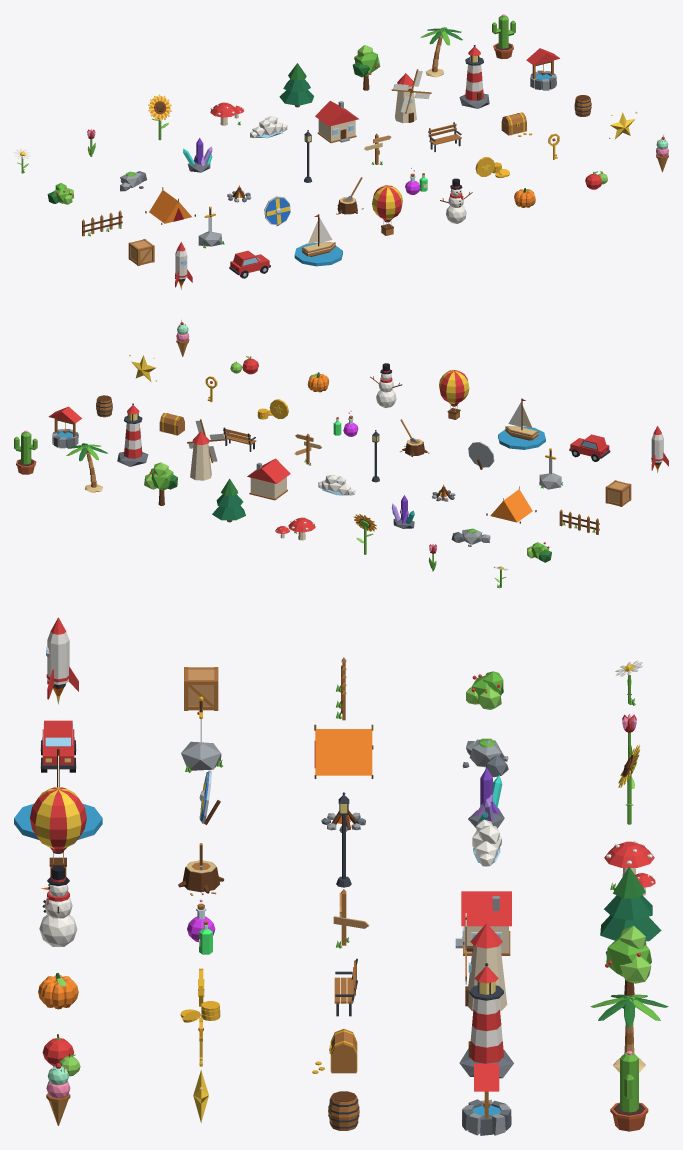
Rendered from LowPolyPack.fbx.
The picture shows the model from 3 angles, top to bottom: view 1: azimuth 30°, elevation 25°; view 2: azimuth 150°, elevation 25°; view 3: azimuth 270°, elevation 25°; orthographic projection. The views are drawn at different scales.
Visible parts, largest first — view 1: House, Sailboat, Windmill, Lighthouse, Hot Air Balloon, Well, Pine Tree, Tent, Car, Cactus, Round Tree, Snowman (+14 smaller); view 2: Sailboat, House, Windmill, Lighthouse, Hot Air Balloon, Well, Pine Tree, Tent, Round Tree, Car, Cactus, Snowman (+12 smaller); view 3: Lighthouse, Hot Air Balloon, Tent, House, Pine Tree, Well, Snowman, Round Tree, Windmill, Cactus, Car, Rocket (+18 smaller).
Boxes of the visible parts, left/top/right/bottom form: House: left=315, top=100, right=358, bottom=143; Sailboat: left=294, top=214, right=342, bottom=266; Windmill: left=391, top=69, right=431, bottom=123; Lighthouse: left=459, top=45, right=489, bottom=108; Hot Air Balloon: left=372, top=185, right=402, bottom=235; Well: left=526, top=48, right=559, bottom=90; Pine Tree: left=279, top=63, right=313, bottom=107; Tent: left=145, top=187, right=195, bottom=224; Car: left=229, top=250, right=270, bottom=278; Cactus: left=492, top=14, right=515, bottom=58; Round Tree: left=352, top=45, right=380, bottom=90; Snowman: left=440, top=178, right=472, bottom=223; Sailboat: left=498, top=398, right=545, bottom=449; House: left=247, top=458, right=290, bottom=500; Windmill: left=187, top=419, right=226, bottom=480; Lighthouse: left=117, top=403, right=148, bottom=466; Hot Air Balloon: left=439, top=369, right=469, bottom=419; Well: left=48, top=406, right=81, bottom=448; Pine Tree: left=212, top=478, right=245, bottom=522; Tent: left=486, top=486, right=536, bottom=523; Round Tree: left=144, top=462, right=177, bottom=505; Car: left=569, top=434, right=610, bottom=461; Cactus: left=14, top=430, right=37, bottom=474; Snowman: left=370, top=363, right=402, bottom=408; Lighthouse: left=459, top=963, right=513, bottom=1078; Hot Air Balloon: left=30, top=787, right=86, bottom=876; Tent: left=314, top=724, right=373, bottom=778; House: left=455, top=891, right=511, bottom=955; Pine Tree: left=600, top=866, right=661, bottom=941; Well: left=462, top=1063, right=511, bottom=1135; Snowman: left=39, top=865, right=77, bottom=946; Round Tree: left=605, top=925, right=651, bottom=995; Windmill: left=465, top=913, right=507, bottom=1011; Cactus: left=610, top=1051, right=648, bottom=1131; Car: left=40, top=720, right=76, bottom=772; Rocket: left=46, top=617, right=78, bottom=704.
Size of the model in its own units: 101 by 11.57 by 61.94.
1 material, 1 textured.
